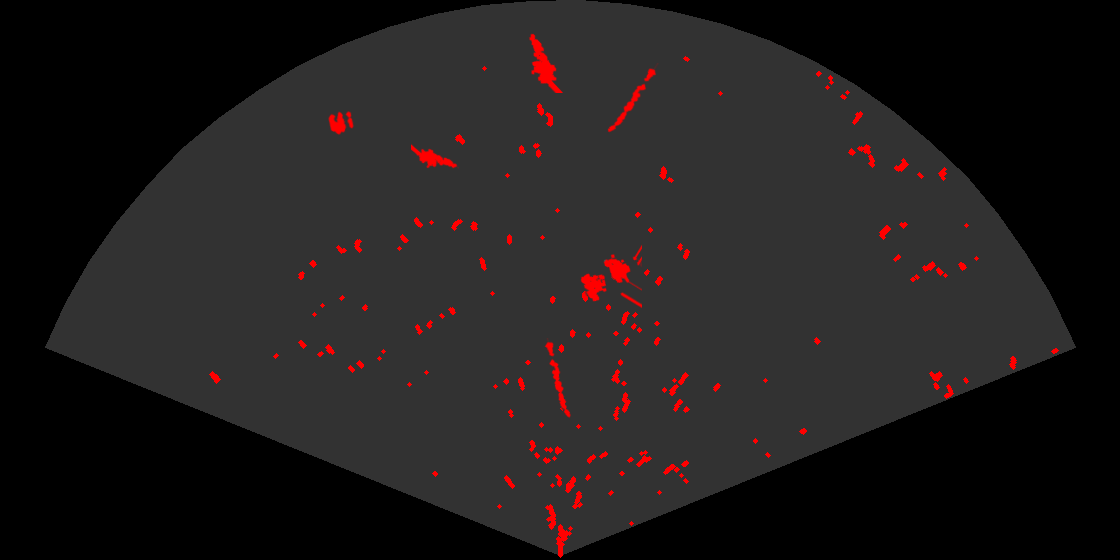ball: (327, 109, 356, 136)
cage: (579, 243, 642, 310)
chain: (606, 63, 660, 134), (543, 338, 572, 420)
frogman: (527, 32, 564, 93), (411, 142, 459, 171)
